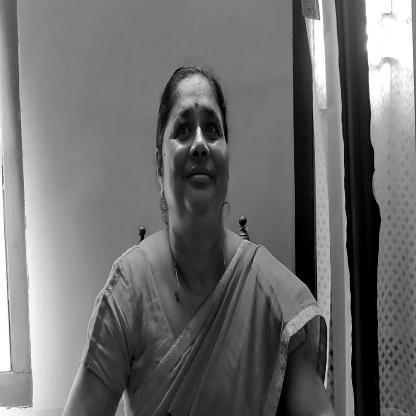Normal: (156, 66, 231, 226)
